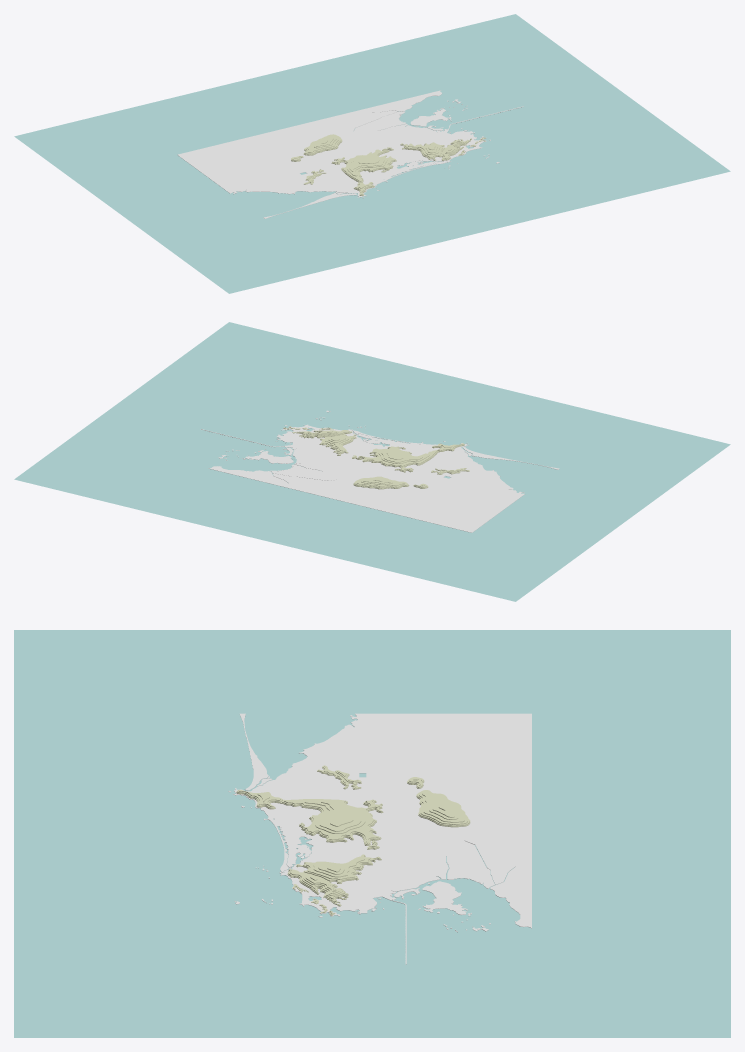
3 renders of one model, top to bottom at view 1: azimuth 30°, elevation 25°; view 2: azimuth 150°, elevation 25°; view 3: azimuth 270°, elevation 25°, orthographic. The views are drawn at different scales.
Visible parts, largest first — view 1: base_final; view 2: base_final; view 3: base_final.
Part boxes in pixels (box(x1,y1,x2,y2)): base_final: box(14, 14, 730, 293); base_final: box(14, 322, 730, 601); base_final: box(14, 630, 730, 1037).
Bounding box in the file's own units: 24.26 × 0.15 × 18.02.
